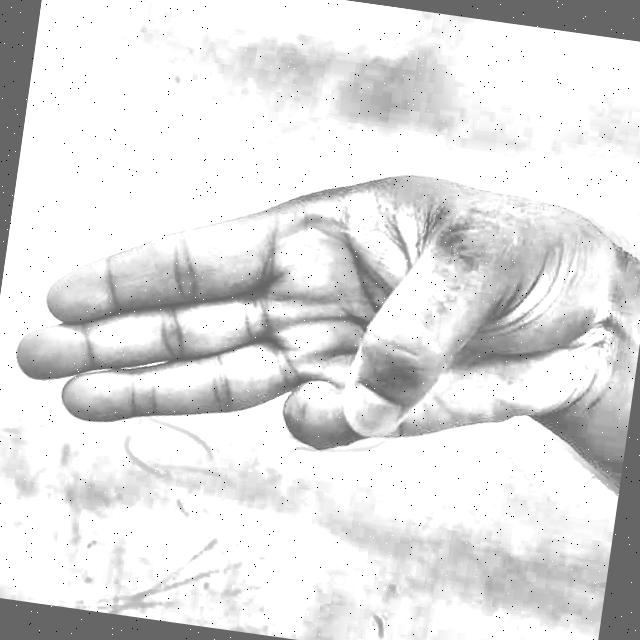Ma: (4, 112, 640, 565)
